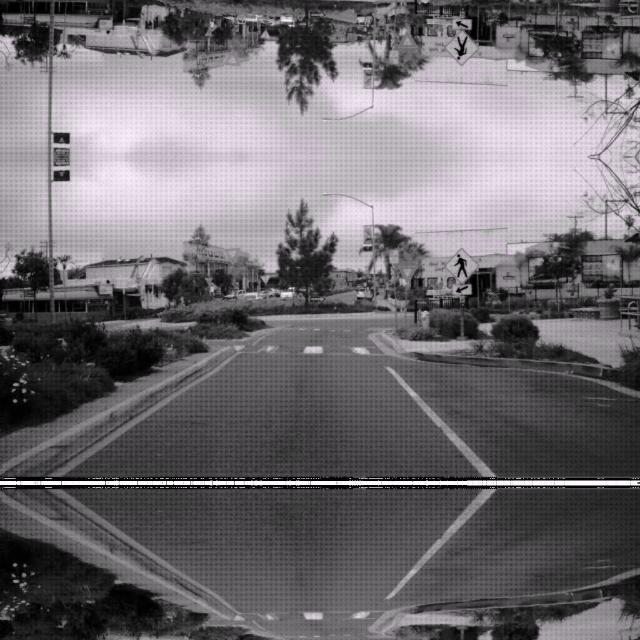pedestrianCrossing: (443, 245, 479, 282), (443, 29, 479, 66)
yield: (397, 264, 417, 282), (222, 245, 242, 263), (397, 30, 417, 48), (222, 49, 242, 67)
